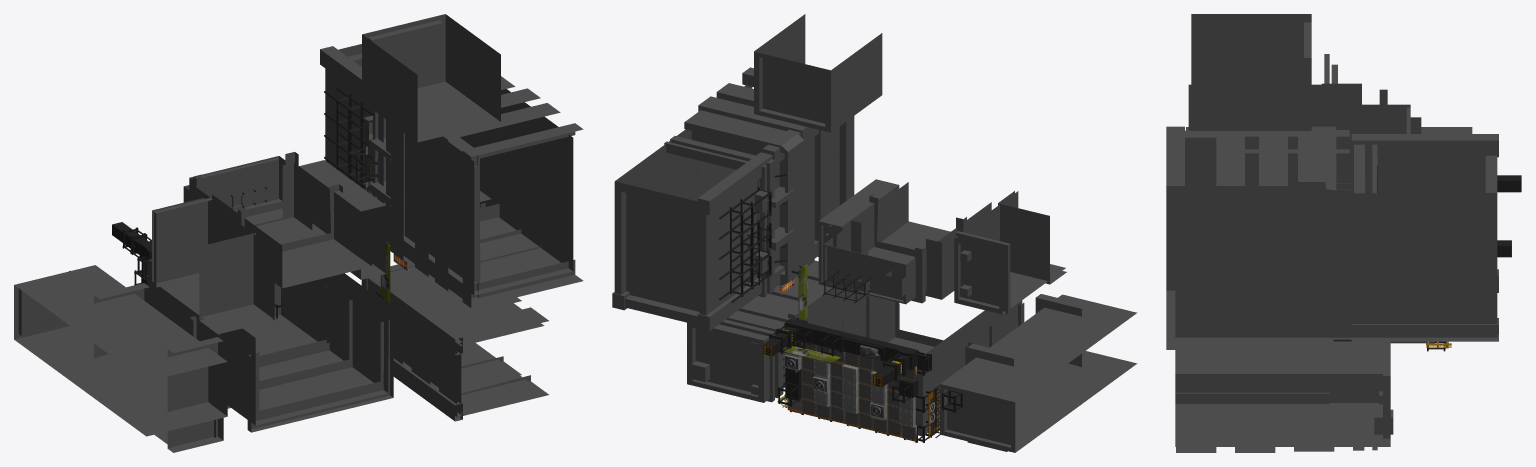
The picture shows the model from 3 angles, left to right: view 1: azimuth 30°, elevation 25°; view 2: azimuth 150°, elevation 25°; view 3: azimuth 270°, elevation 25°; orthographic projection. The views are drawn at different scales.
Visible parts, largest first — view 1: S_Outworld_building_054, S_Outworld_building_01, S_Outworld_building_058, S_Outworld_building_044, S_Outworld_building_015, S_Outworld_building_035, S_Outworld_building_025, S_Outworld_building_078, S_Outworld_building_00, S_Outworld_building_04, S_Outworld_building_06, S_Outworld_building_081 (+18 smaller); view 2: S_Outworld_building_054, S_Outworld_building_01, S_Outworld_building_044, S_Outworld_building_058, S_Outworld_building_048, S_Outworld_building_035, S_Outworld_building_015, S_Outworld_building_00, S_patch, S_Outworld_building_078, S_Outworld_building_04, S_Outworld_building_026 (+22 smaller); view 3: S_Outworld_building_054, S_Outworld_building_035, S_Outworld_building_044, S_Outworld_building_020, S_Outworld_building_025, S_Outworld_building_015, S_Outworld_building_048, S_Outworld_building_026, S_Outworld_building_028, S_Outworld_building_040, S_Outworld_building_041, S_Outworld_building_042 (+10 smaller).
Part boxes in pixels (x1,y1,x2,y2): S_Outworld_building_054: (325, 44, 573, 295); S_Outworld_building_01: (14, 265, 227, 436); S_Outworld_building_058: (148, 259, 388, 425); S_Outworld_building_044: (362, 14, 500, 142); S_Outworld_building_015: (189, 156, 371, 288); S_Outworld_building_035: (361, 262, 544, 413); S_Outworld_building_025: (462, 123, 583, 308); S_Outworld_building_078: (299, 160, 385, 279); S_Outworld_building_00: (152, 198, 272, 331); S_Outworld_building_04: (199, 233, 274, 334); S_Outworld_building_06: (154, 197, 212, 287); S_Outworld_building_081: (247, 320, 393, 432); S_Outworld_building_054: (614, 84, 839, 324); S_Outworld_building_01: (940, 294, 1137, 452); S_Outworld_building_044: (754, 14, 882, 132); S_Outworld_building_058: (807, 290, 1022, 436); S_Outworld_building_048: (684, 110, 804, 285); S_Outworld_building_035: (687, 276, 824, 402); S_Outworld_building_015: (823, 182, 991, 304); S_Outworld_building_00: (954, 191, 1065, 314); S_patch: (802, 342, 914, 440); S_Outworld_building_078: (818, 179, 899, 289); S_Outworld_building_04: (998, 191, 1066, 284); S_Outworld_building_026: (698, 96, 814, 266); S_Outworld_building_054: (1175, 140, 1497, 337); S_Outworld_building_035: (1175, 337, 1390, 446); S_Outworld_building_044: (1191, 14, 1311, 130); S_Outworld_building_020: (1351, 134, 1498, 157); S_Outworld_building_025: (1166, 126, 1184, 349); S_Outworld_building_015: (1311, 104, 1410, 135); S_Outworld_building_048: (1298, 126, 1336, 345); S_Outworld_building_026: (1259, 131, 1287, 349); S_Outworld_building_028: (1216, 131, 1244, 349); S_Outworld_building_040: (1175, 392, 1329, 403); S_Outworld_building_041: (1176, 337, 1216, 452); S_Outworld_building_042: (1235, 337, 1275, 452).
Size of the model in its own units: 0.2779 by 0.2161 by 0.1846.
Materials: 3 (3 with a texture image).
